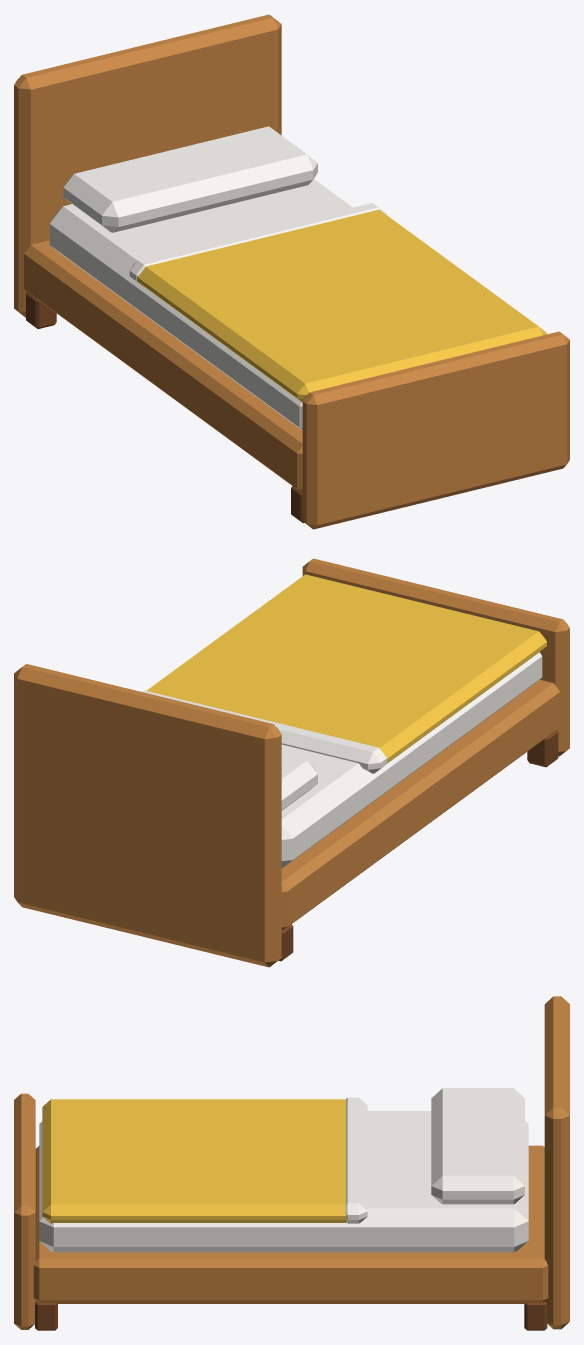
The model's file is YellowBed.fbx.
3 views of the same model, one above another, from view 1: azimuth 30°, elevation 25°; view 2: azimuth 150°, elevation 25°; view 3: azimuth 270°, elevation 25° (orthographic). The views are drawn at different scales.
Visible parts, largest first — view 1: YellowBed; view 2: YellowBed; view 3: YellowBed.
Part boxes in pixels (<box>): YellowBed: <box>14,14,569,529</box>; YellowBed: <box>14,558,569,967</box>; YellowBed: <box>14,996,569,1330</box>.
Size of the model in its own units: 3.9 by 3.4 by 7.73.
Materials: 1 (1 with a texture image).
